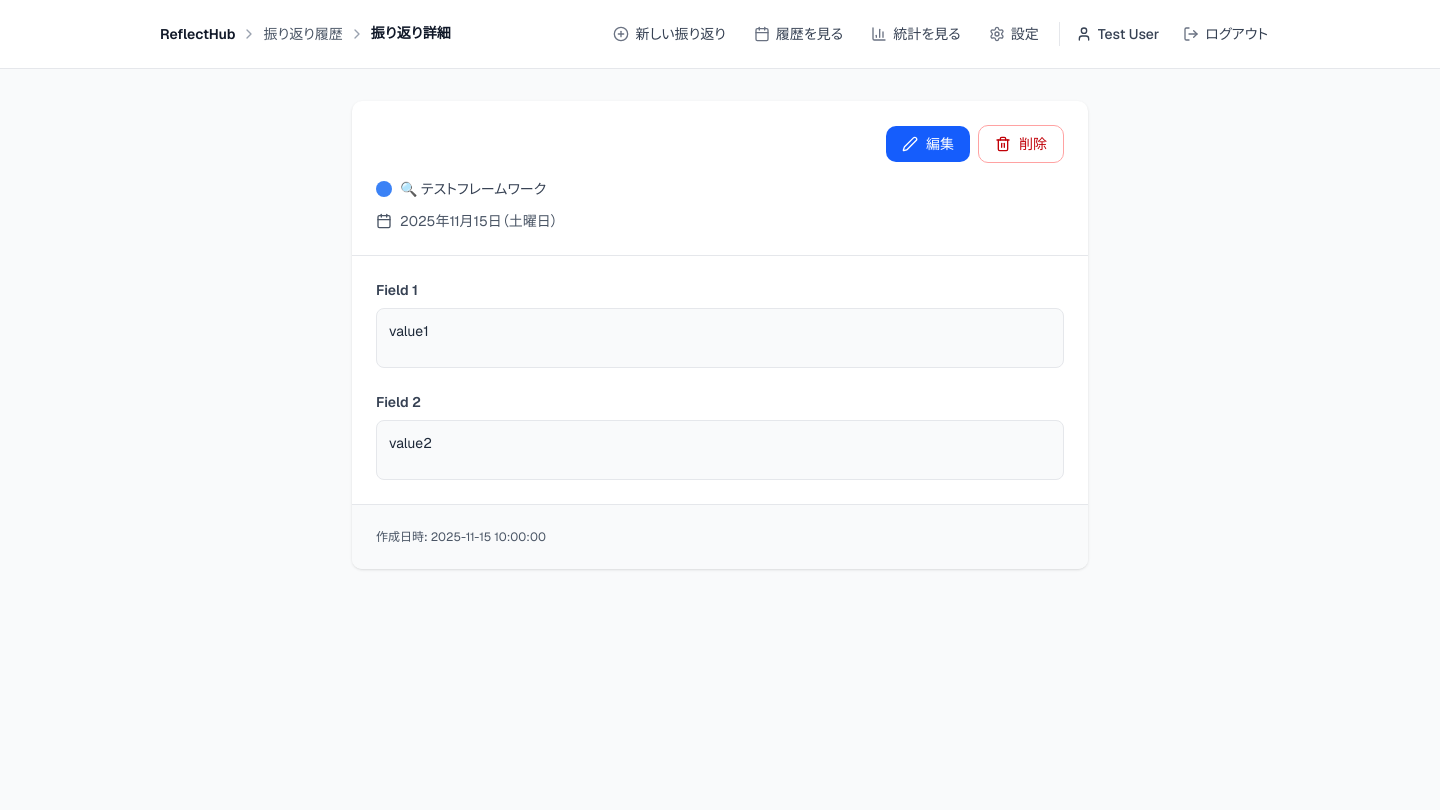
it: ReflectionDetailPage - Delete Feature › should show delete confirm dialog when delete button is clicked
Expected: the text "削除" is shown, [1019, 134, 1047, 154]
Click the button "削除".
click(1021, 144)  # box [978, 125, 1064, 163]
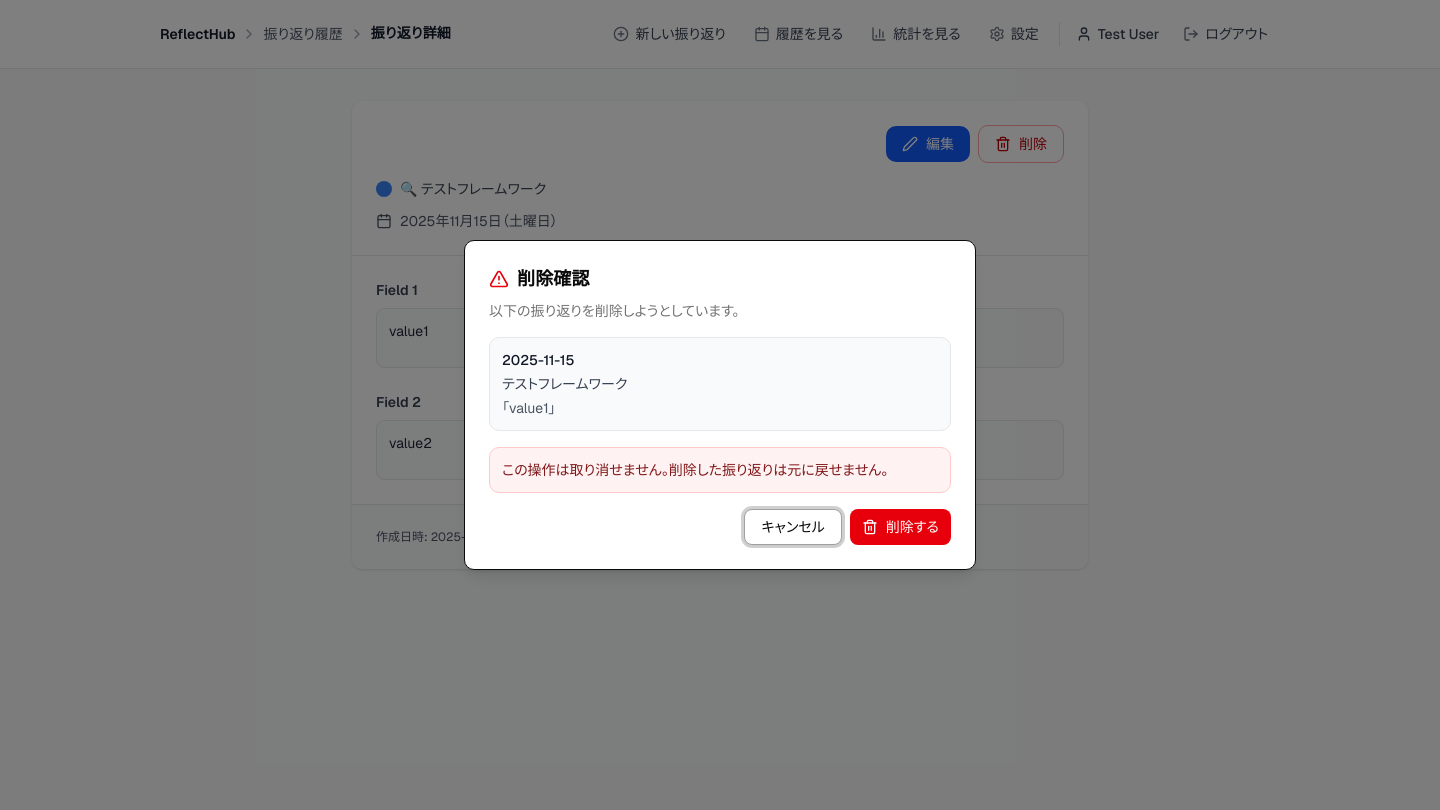
Expected: the heading "削除確認" is shown, [489, 267, 590, 290]
